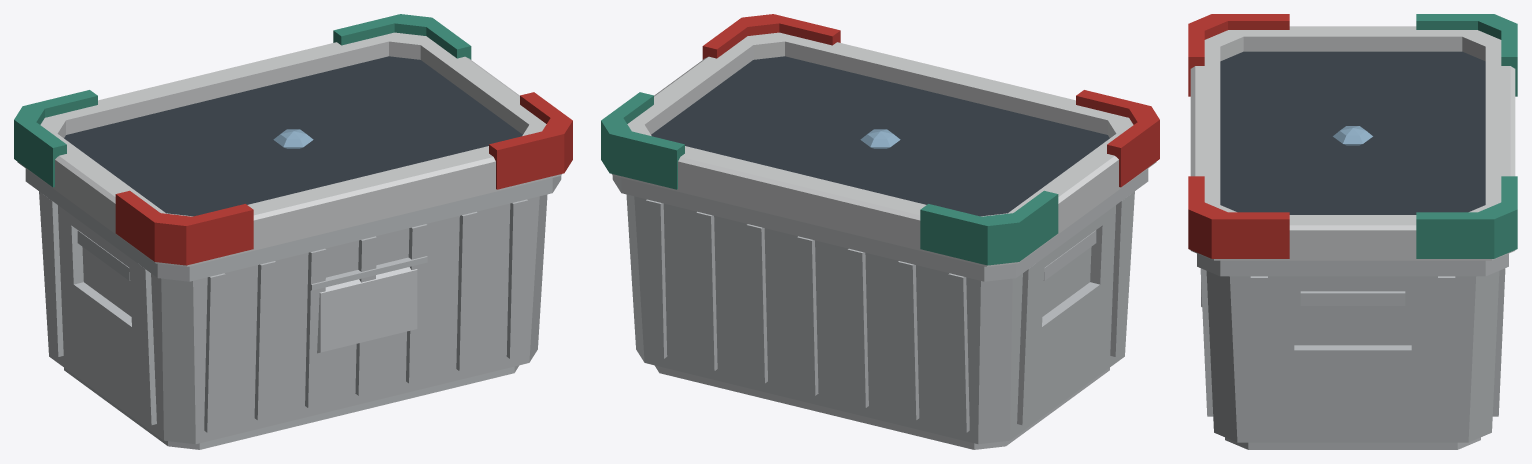
The model's file is stackable-supply-tote-eca42d.glb.
3 renders of one model, left to right at view 1: azimuth 30°, elevation 25°; view 2: azimuth 150°, elevation 25°; view 3: azimuth 270°, elevation 25°, orthographic.
Visible parts, largest first — view 1: stackable-supply-tote, lid; view 2: stackable-supply-tote, lid; view 3: lid, stackable-supply-tote.
Part boxes in pixels (box(x1,y1,x2,y2)): stackable-supply-tote: box(25, 169, 561, 449); lid: box(14, 14, 572, 266); stackable-supply-tote: box(612, 169, 1148, 449); lid: box(601, 14, 1159, 266); lid: box(1188, 14, 1517, 260); stackable-supply-tote: box(1197, 253, 1508, 449).
Size of the model in its own units: 0.622 by 0.348 by 0.422.
